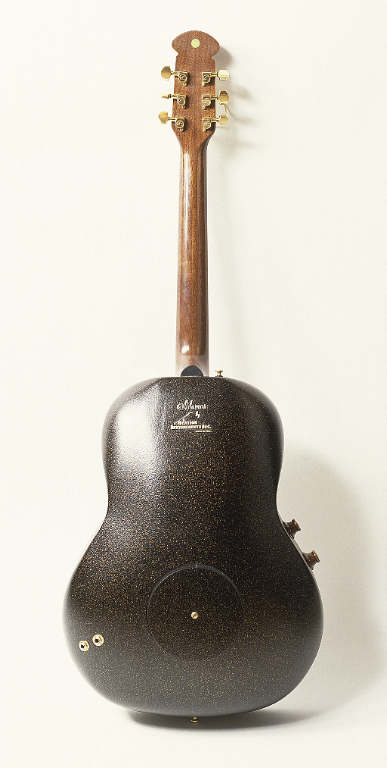guitar: (59, 27, 328, 723)
